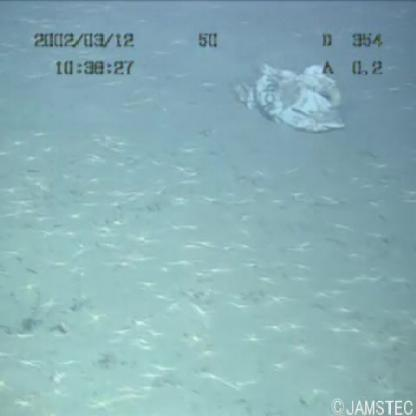Rác: (220, 41, 351, 142)
